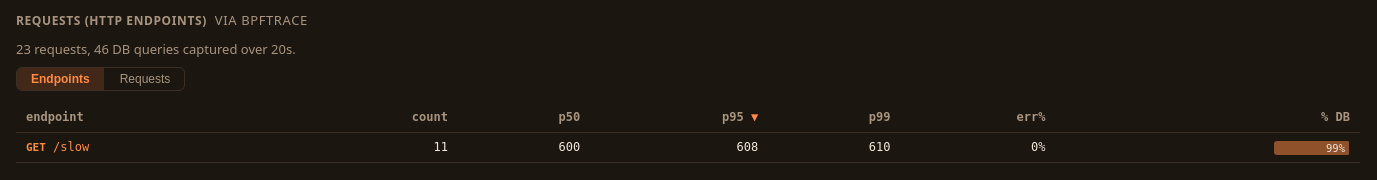
Test: RequestsTab › toggles to the per-request waterfall when requests were sampled
Click the tab "Requests" at [145, 79], box [106, 68, 184, 90]
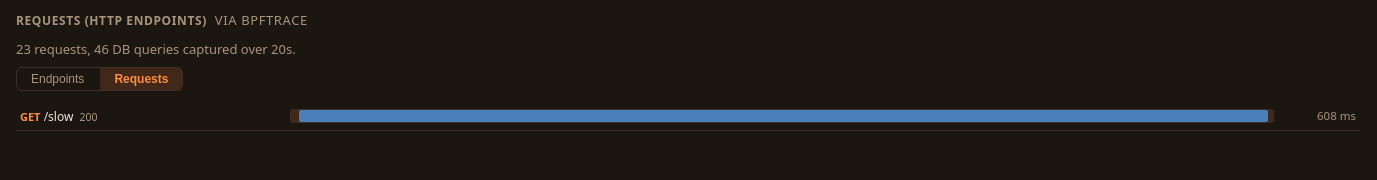
Expected: the element with test id "request-waterfall" is shown, [16, 103, 1360, 131]
